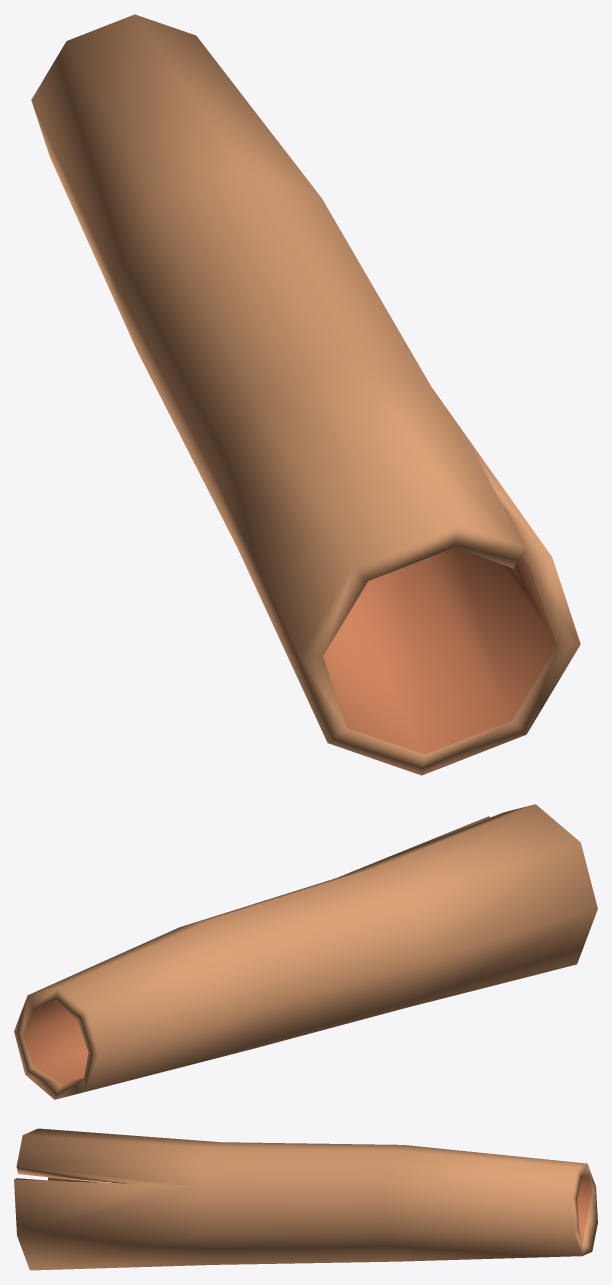
File: tree Log.fbx
The picture shows the model from 3 angles, top to bottom: view 1: azimuth 30°, elevation 25°; view 2: azimuth 150°, elevation 25°; view 3: azimuth 270°, elevation 25°; orthographic projection. The views are drawn at different scales.
Parts seen in each view (by area): view 1: Cylinder.022; view 2: Cylinder.022; view 3: Cylinder.022.
Boxes of the visible parts, x1,y1,x2,y2 form: Cylinder.022: (31, 14, 580, 775); Cylinder.022: (14, 804, 597, 1099); Cylinder.022: (14, 1128, 597, 1270).
Size of the model in its own units: 155 by 105 by 357.
